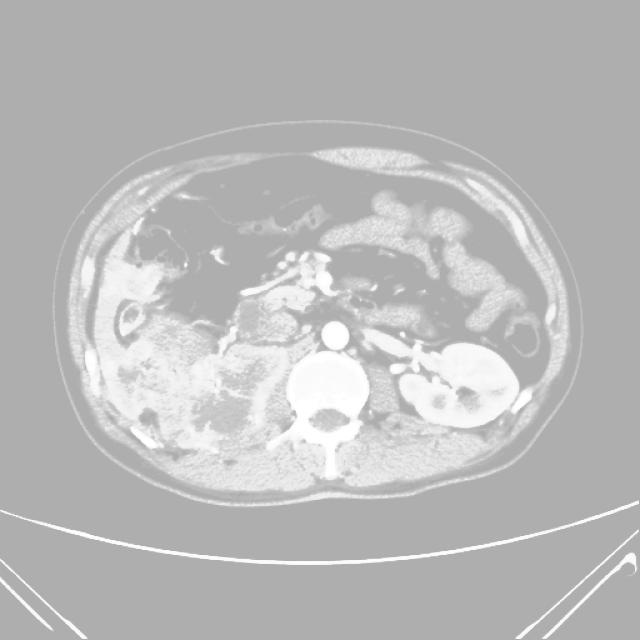TUMOR: (100, 182, 571, 462)
